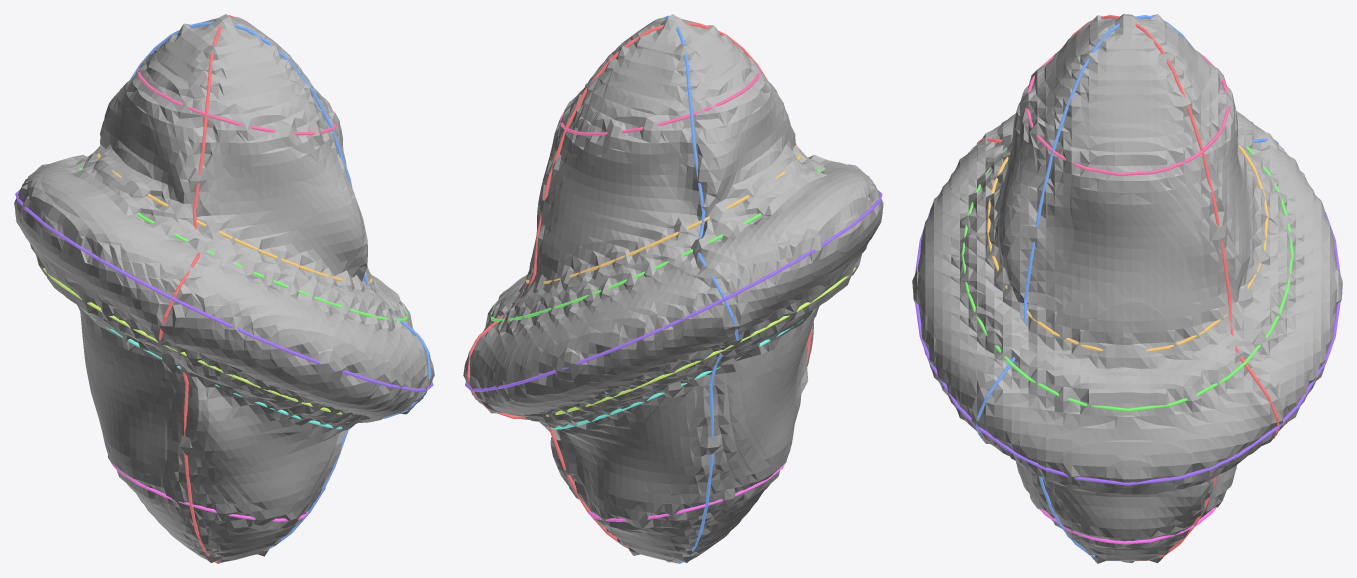
Rendered from flowrep_ellipsetorus.gltf.
3 views of the same model, side by side, from view 1: azimuth 30°, elevation 25°; view 2: azimuth 150°, elevation 25°; view 3: azimuth 270°, elevation 25° (orthographic).
Bounding box in the file's own units: 0.4983 × 0.7207 × 0.5135.
